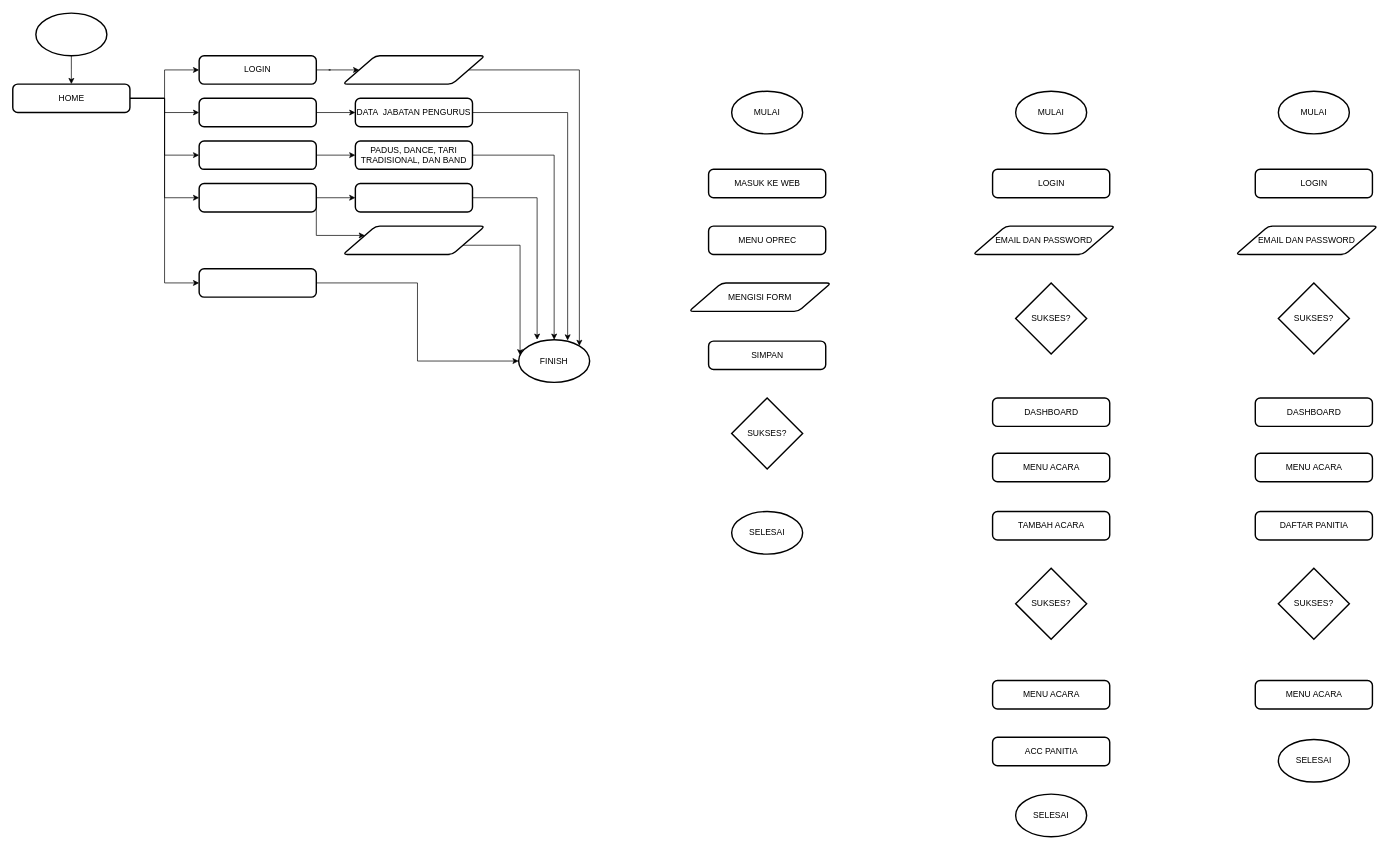
Some shapes in this 1391 by 849 pixel diagram are drawn without their labels. Here are the shapes that lost their labels. From the top down, the box of each, then its label:
(35, 12, 107, 56): START
(342, 55, 485, 84): ABSEN
(198, 97, 317, 127): INFO PENGURUS
(198, 140, 317, 170): INFO MINAT DIVISI
(198, 182, 317, 212): OPREC
(354, 182, 473, 212): INFO OPREC
(342, 225, 485, 255): FORMULIR PENDAFTARAN
(198, 268, 317, 297): PAGE CHORD
